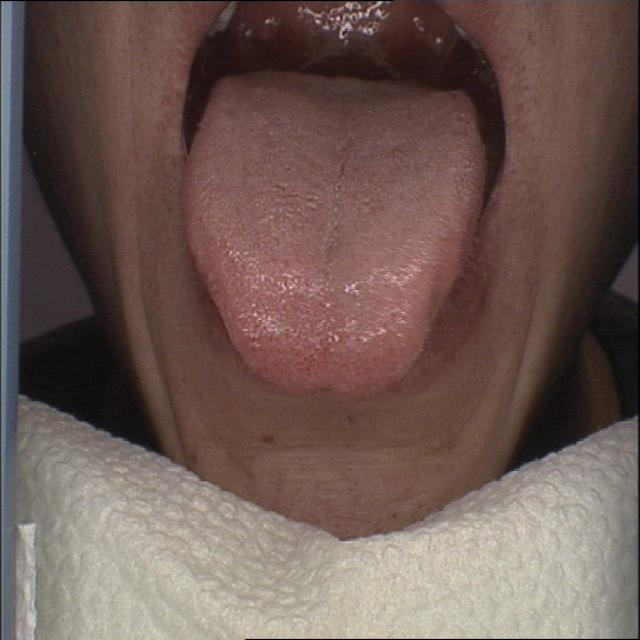tongue: (188, 57, 491, 399)
